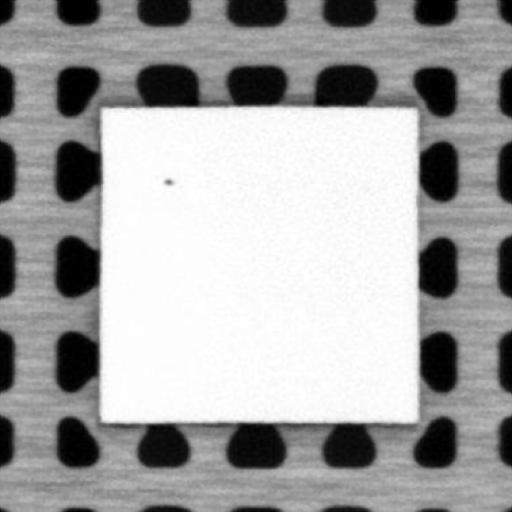DIE_INK: (160, 172, 173, 188)
